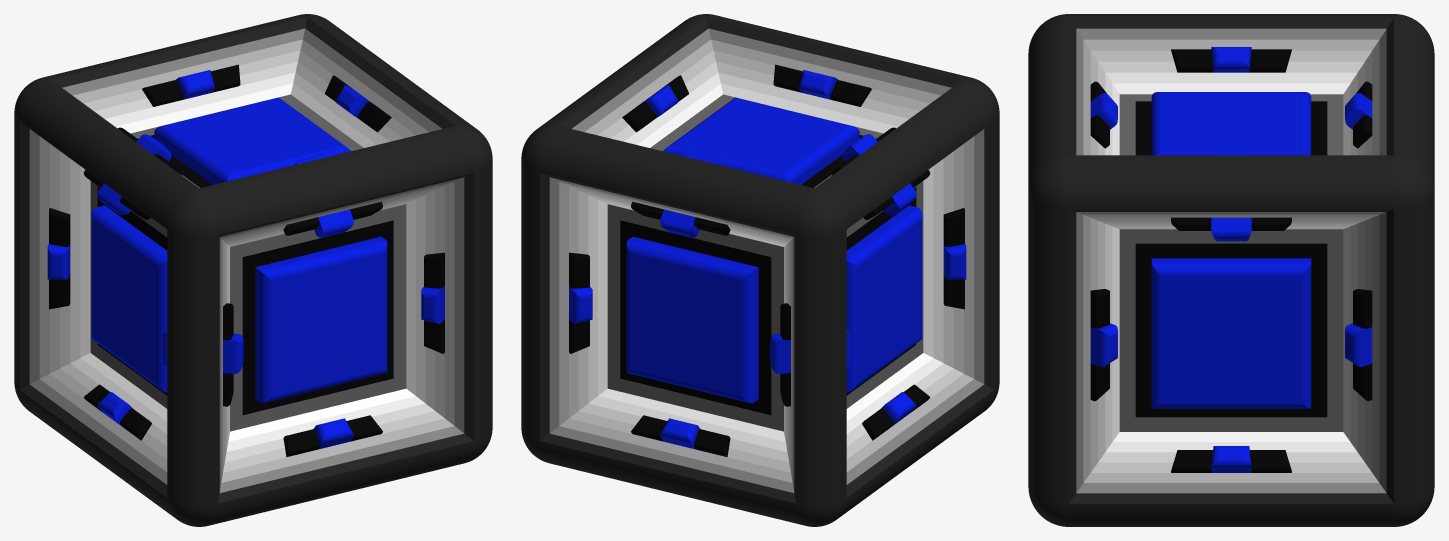
The model's file is bomb_v2.fbx.
3 renders of one model, left to right at view 1: azimuth 30°, elevation 25°; view 2: azimuth 150°, elevation 25°; view 3: azimuth 270°, elevation 25°, orthographic. The views are drawn at different scales.
Visible parts, largest first — view 1: ver1.1; view 2: ver1.1; view 3: ver1.1.
Boxes of the visible parts, <box> form: ver1.1: <box>14,14,492,526</box>; ver1.1: <box>521,14,999,526</box>; ver1.1: <box>1028,14,1434,526</box>.
Size of the model in its own units: 200 by 200 by 200.
